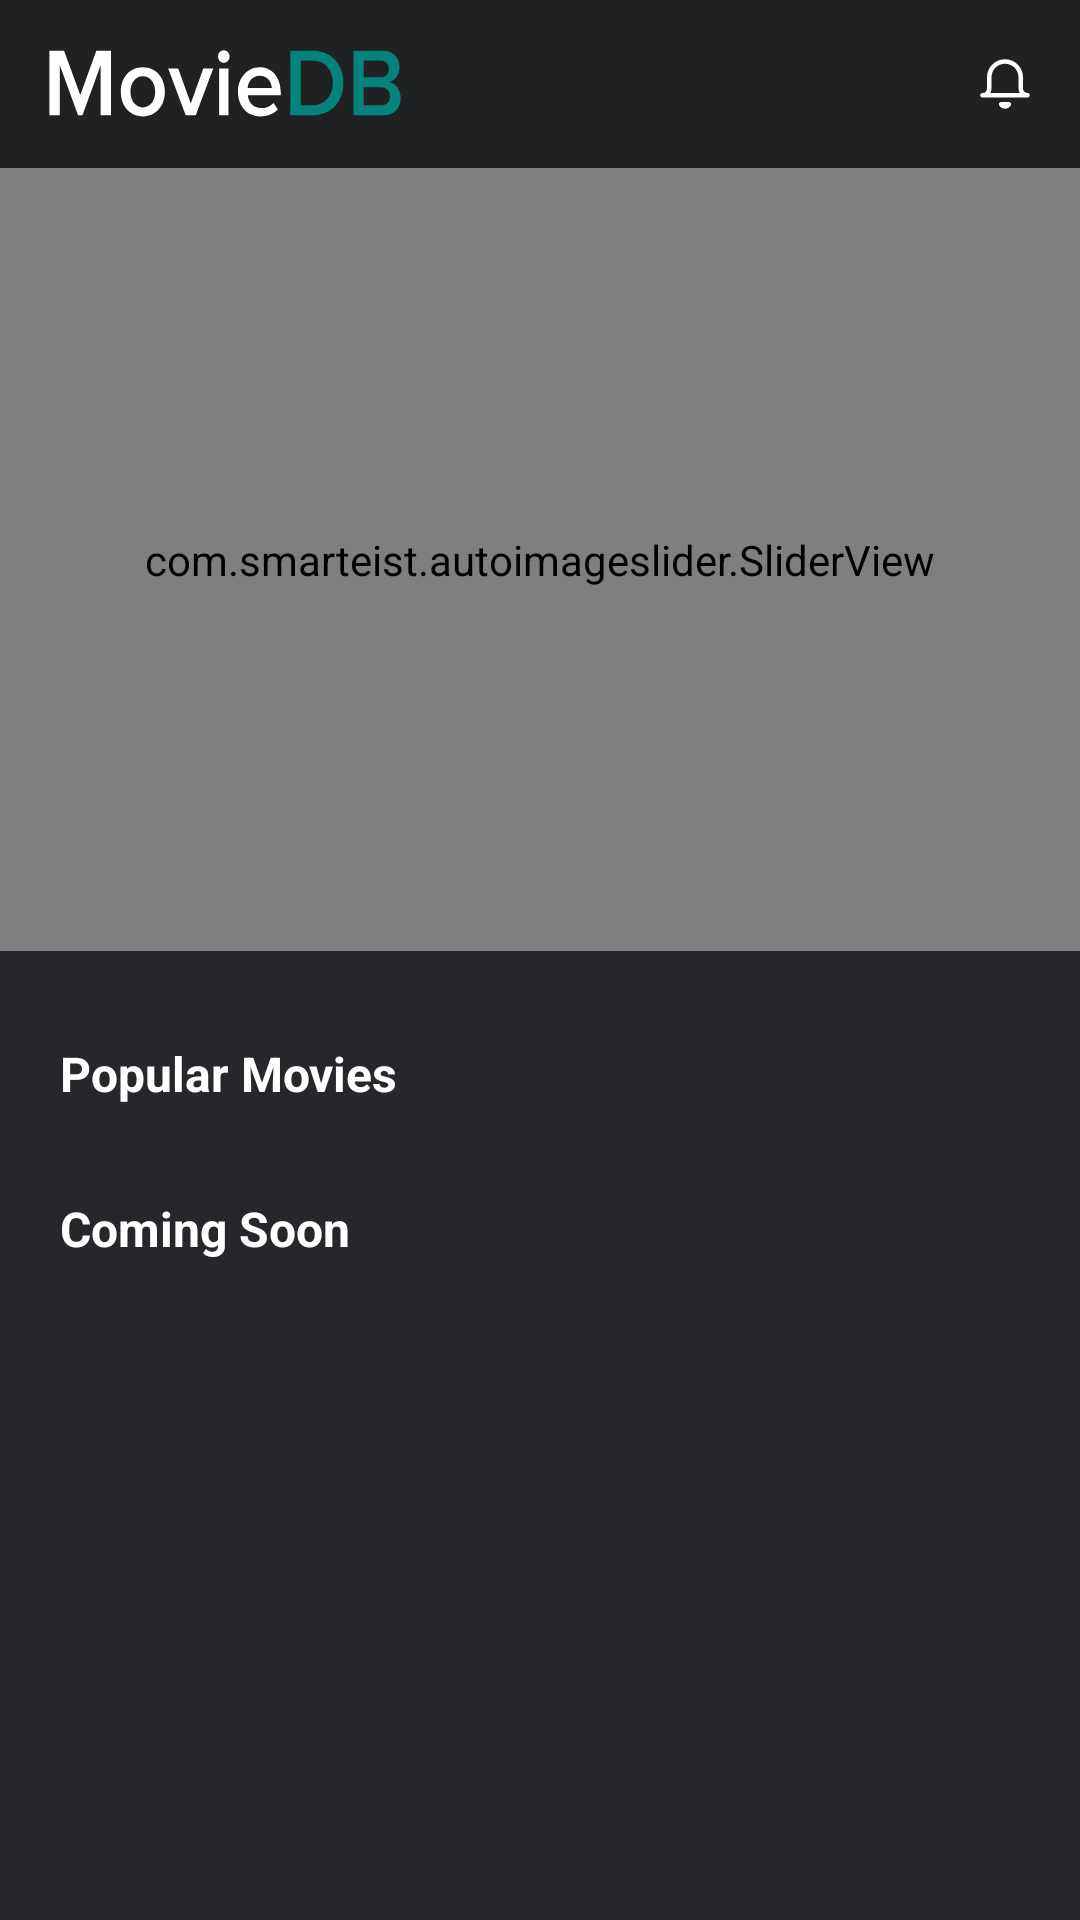

Point at icon controls on the screen. Image size 1080x1920, points as [x,y].
Bell: [1005,84]
